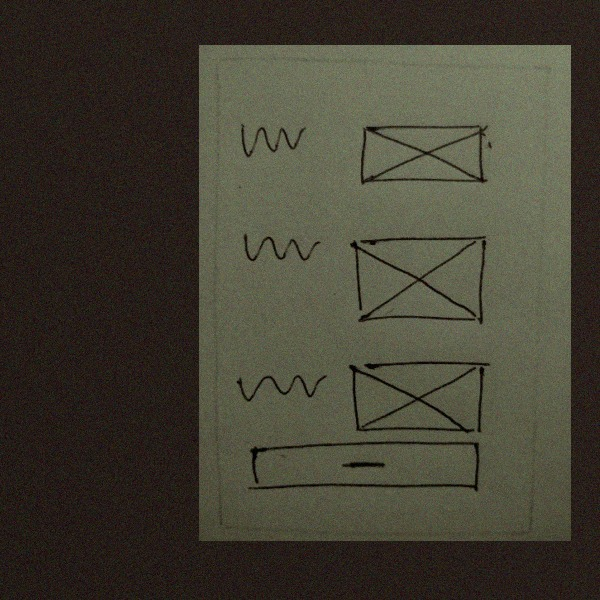button: (239, 438, 490, 500)
image: (348, 229, 495, 331), (342, 351, 494, 442), (351, 115, 497, 200)
text: (232, 363, 328, 409), (235, 229, 326, 273), (234, 115, 309, 165)
